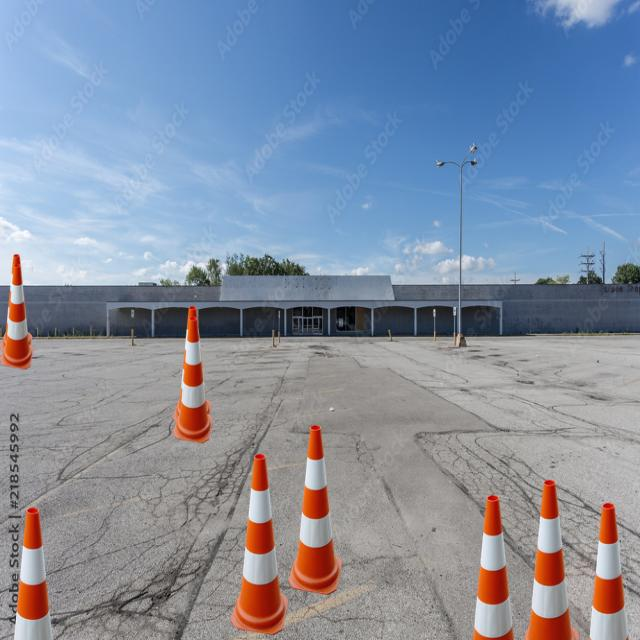large_orange_cone: (230, 454, 288, 635), (518, 480, 580, 640), (288, 425, 342, 595), (461, 495, 524, 640), (576, 503, 640, 640), (0, 507, 64, 640), (173, 317, 213, 443), (173, 306, 212, 428), (0, 264, 34, 369), (0, 254, 33, 356)
